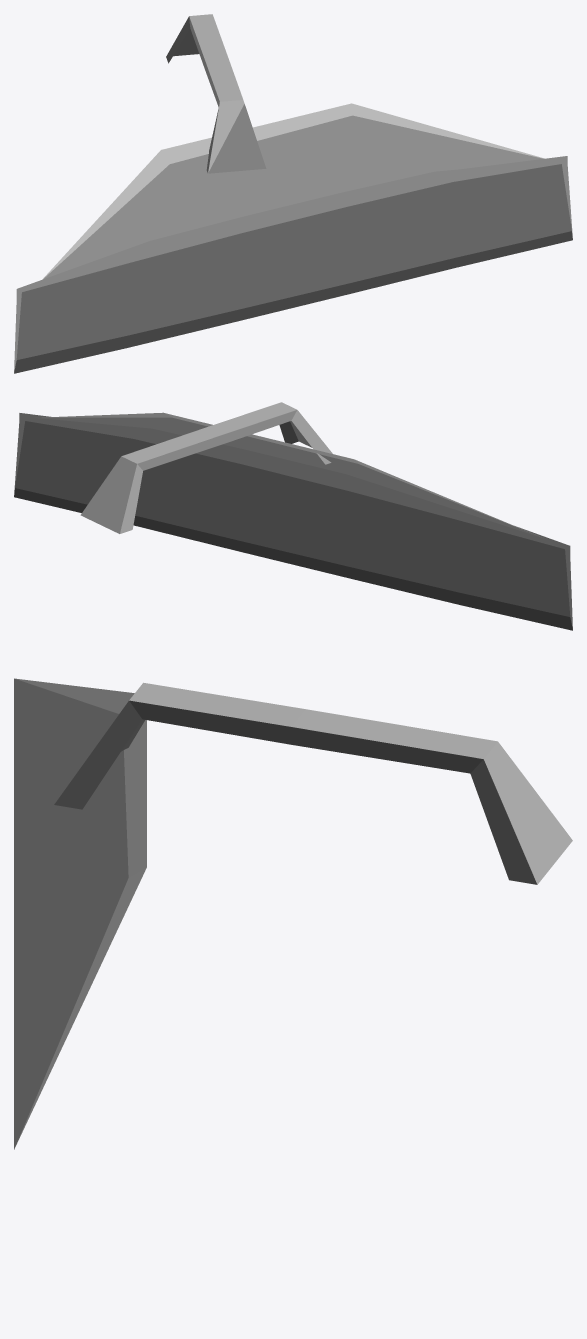
The model's file is trashcan_top.FBX.
The picture shows the model from 3 angles, top to bottom: view 1: azimuth 30°, elevation 25°; view 2: azimuth 150°, elevation 25°; view 3: azimuth 270°, elevation 25°; orthographic projection. The views are drawn at different scales.
Parts seen in each view (by area): view 1: trashcan_top; view 2: trashcan_top; view 3: trashcan_top.
Part boxes in pixels (<box>): trashcan_top: <box>14,14,572,373</box>; trashcan_top: <box>14,402,572,630</box>; trashcan_top: <box>14,678,572,1149</box>.
Size of the model in its own units: 69.68 by 22.73 by 32.51.
Materials: 1 (1 with a texture image).
